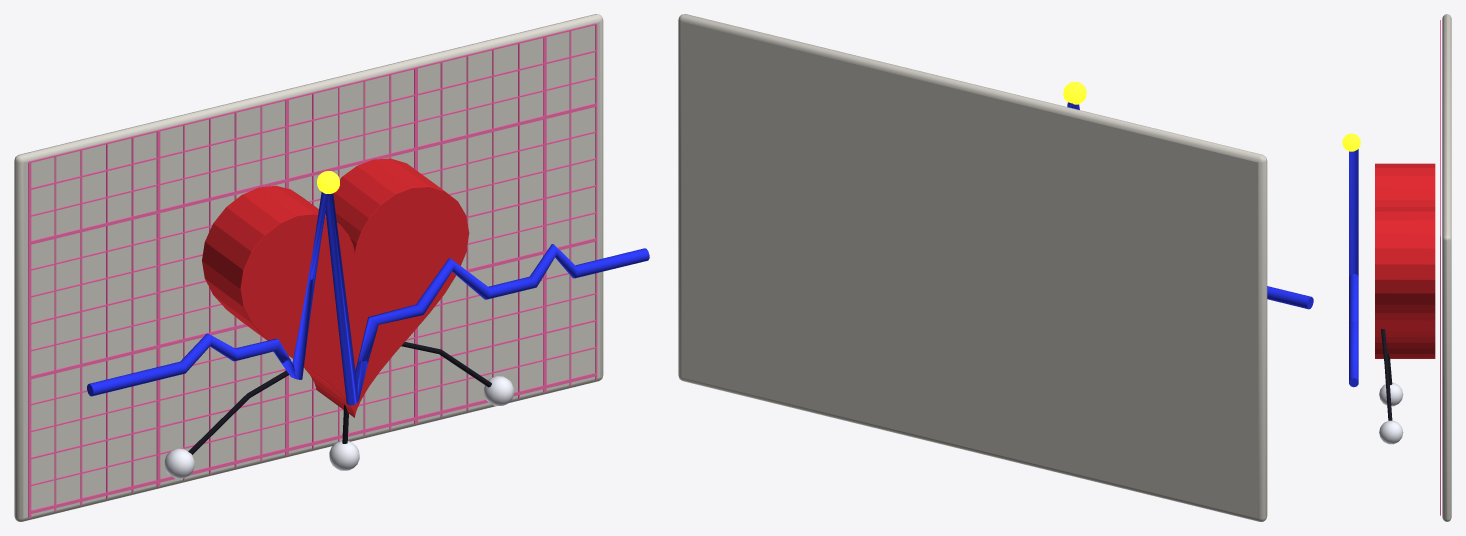
File: heart.glb
3 renders of one model, left to right at view 1: azimuth 30°, elevation 25°; view 2: azimuth 150°, elevation 25°; view 3: azimuth 270°, elevation 25°, orthographic. The views are drawn at different scales.
Visible parts, largest first — view 1: paper, pulse_heart, grid, ecg, leads; view 2: paper; view 3: pulse_heart, paper, ecg, leads, grid, pulse_dot.
Boxes of the visible parts, x1=… form: paper: x1=14, y1=14, x2=603, y2=521; pulse_heart: x1=202, y1=158, x2=469, y2=417; grid: x1=28, y1=23, x2=597, y2=518; ecg: x1=87, y1=192, x2=649, y2=405; leads: x1=164, y1=342, x2=513, y2=478; paper: x1=678, y1=14, x2=1267, y2=521; pulse_heart: x1=1375, y1=163, x2=1435, y2=358; paper: x1=1442, y1=14, x2=1451, y2=521; ecg: x1=1349, y1=149, x2=1358, y2=387; leads: x1=1379, y1=329, x2=1403, y2=444; grid: x1=1440, y1=20, x2=1440, y2=515; pulse_dot: x1=1342, y1=133, x2=1360, y2=151.
Bounding box in the file's own units: 11.4 × 6.8 × 2.35.
